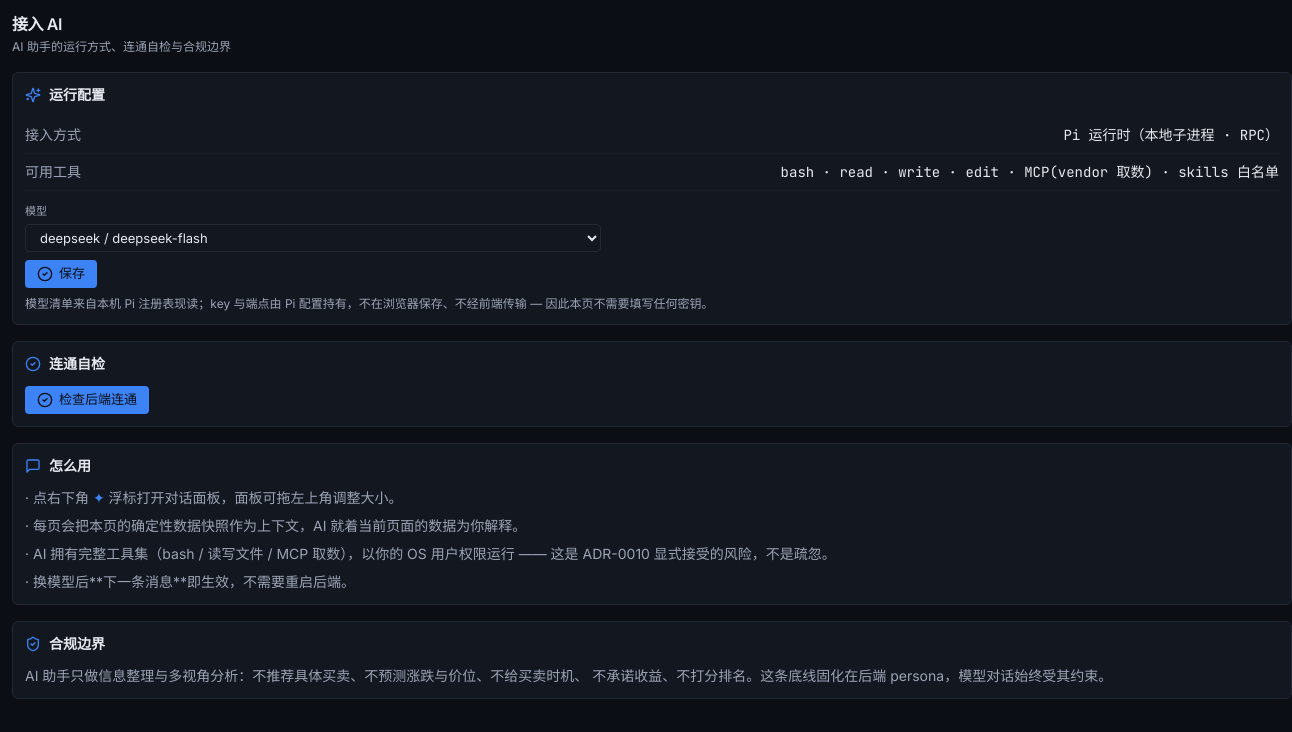
Test: A3 模型选择器 › 保存失败（如模型已下线 400）→ 如实报错，不假装成功
Expected: the dropdown labelled "模型" is shown, [25, 224, 601, 252]
Click the button "保存".
click(61, 274)  # box [25, 260, 97, 288]
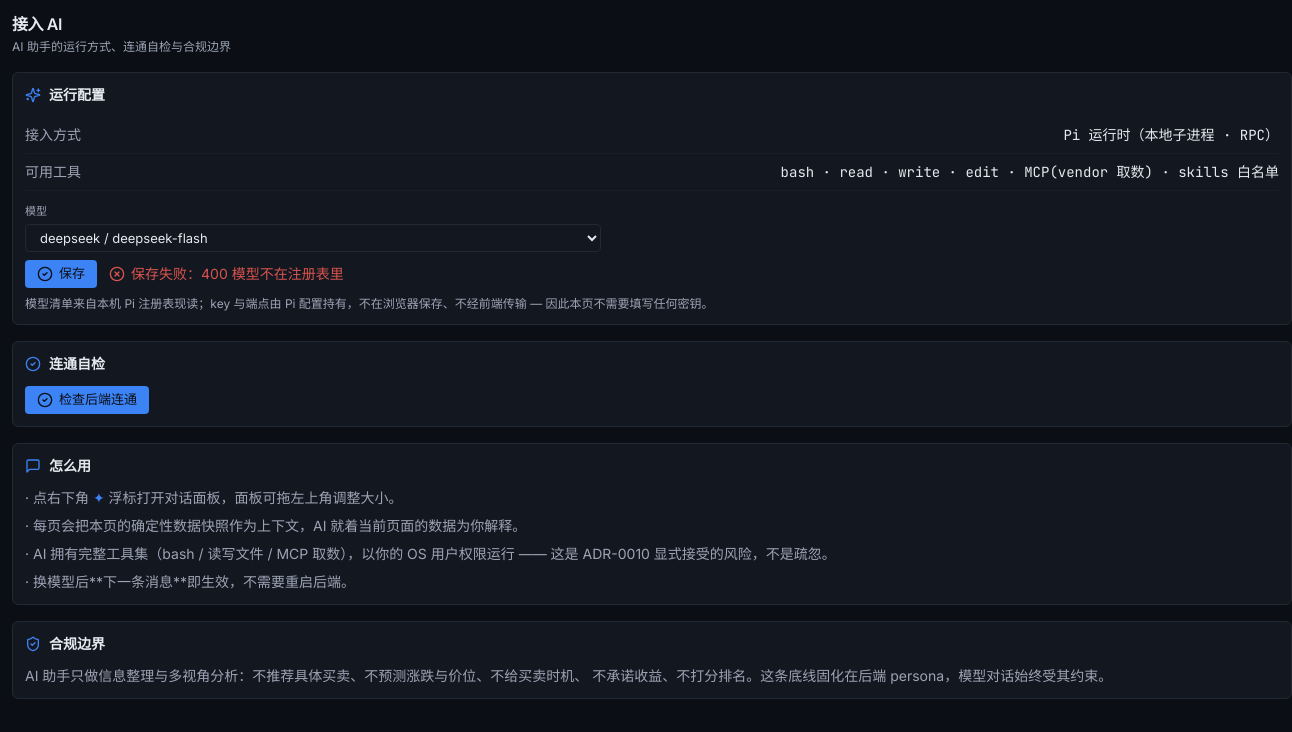
Now the text "保存失败：400 模型不在注册表里" is shown, box [109, 264, 344, 284]
